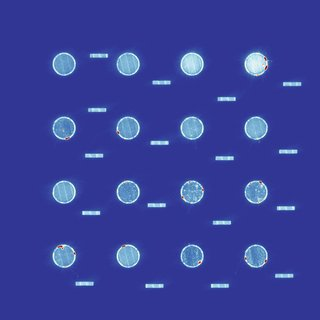overheated: (263, 55, 269, 71), (55, 244, 64, 250), (255, 70, 263, 76), (258, 180, 263, 185), (120, 245, 127, 248), (116, 130, 120, 135), (65, 136, 70, 140), (244, 256, 248, 261), (257, 200, 261, 204), (73, 252, 76, 256), (198, 261, 202, 264), (181, 195, 184, 199), (265, 259, 267, 264), (249, 181, 252, 184), (201, 188, 204, 191), (125, 181, 129, 183), (62, 128, 64, 131), (189, 180, 191, 183), (245, 250, 247, 252), (261, 265, 263, 267)
